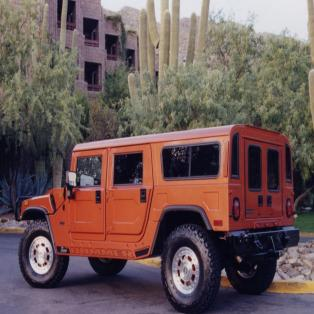Auto: (16, 122, 302, 314)
